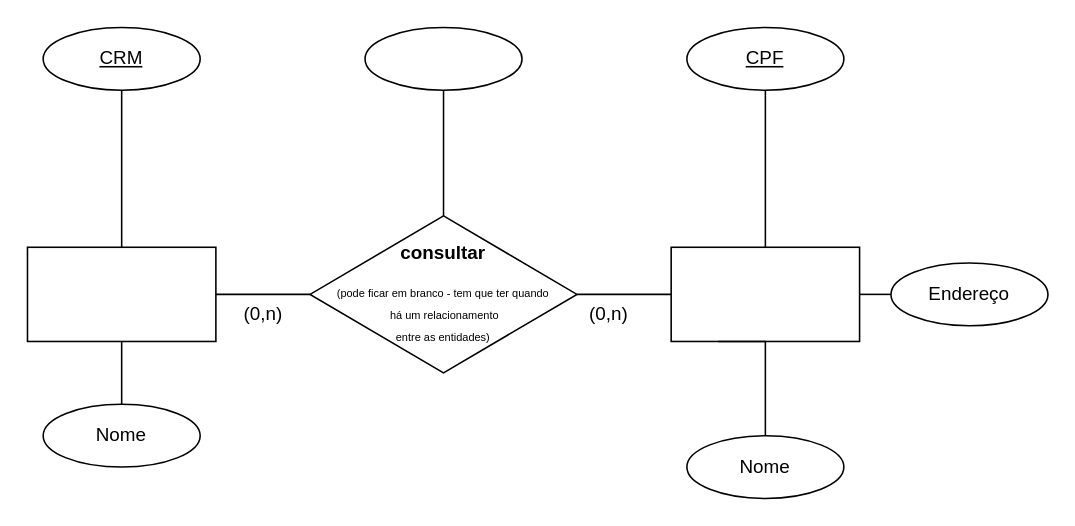
Some shapes in this 1075 by 526 pixel diagram are drawn without their labels. The shapes that lost their labels are listed below. From the top down, each one's box as (x1, y1, x2, y2) in pixels, then its label:
(363, 26, 522, 90): Data
(26, 246, 216, 341): Médico
(670, 246, 860, 341): Paciente
